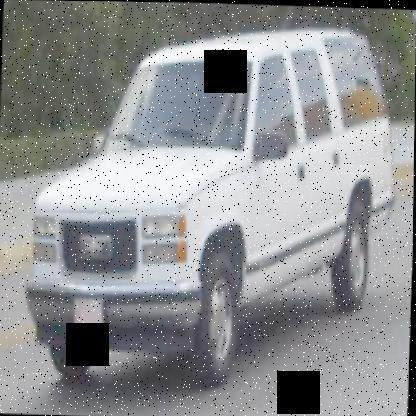not_emergency: (28, 29, 396, 383)
